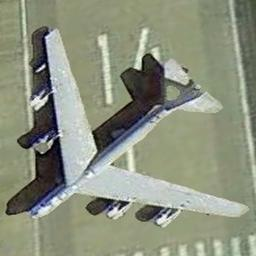Airplane: (24, 26, 250, 232)
